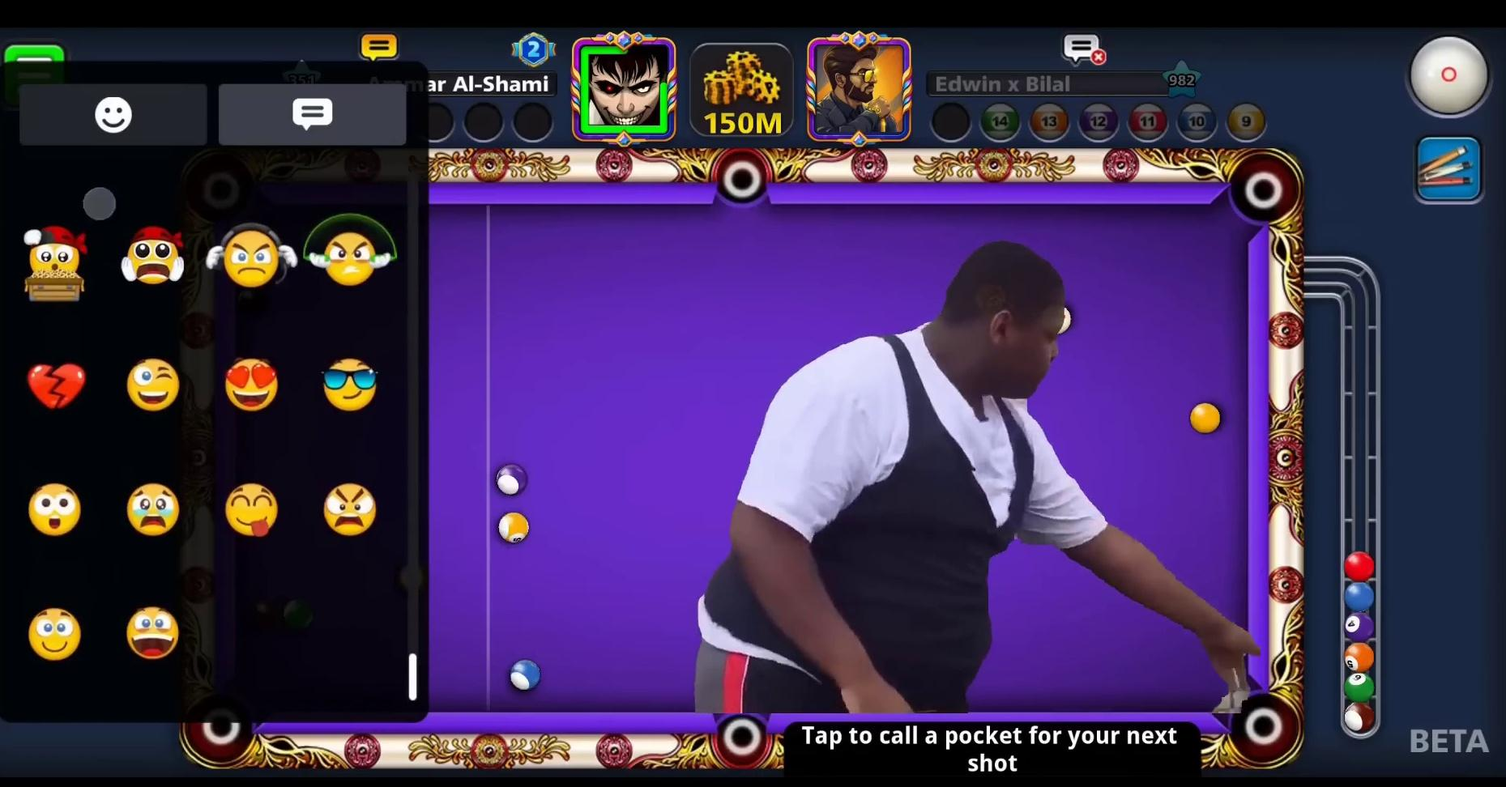Ball: (498, 653, 548, 697), (492, 508, 533, 547), (490, 458, 531, 497), (1185, 398, 1226, 436)
Hole: (1220, 141, 1303, 232), (1226, 683, 1305, 774), (702, 143, 783, 221), (166, 715, 270, 773), (701, 710, 777, 771)
Spin: (1402, 26, 1504, 130)
